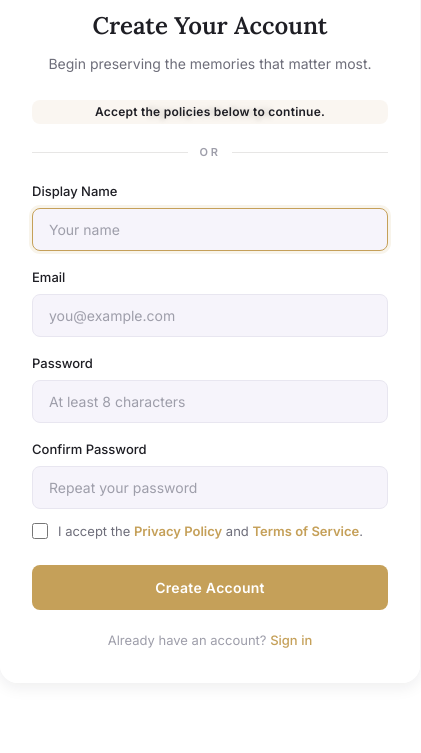
Test: RegisterPage › shows server error on registration failure
The width and height of the screenshot is (421, 753).
Type "John Doe" into the field labelled "Display Name". click: (210, 230)
box: left=32, top=208, right=388, bottom=251
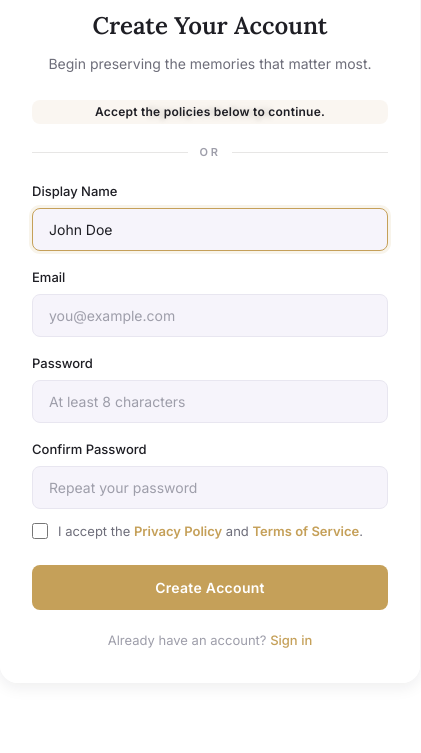
Type "john@gmail.com" into the field labelled "Email". click: (210, 316)
box: left=32, top=294, right=388, bottom=337
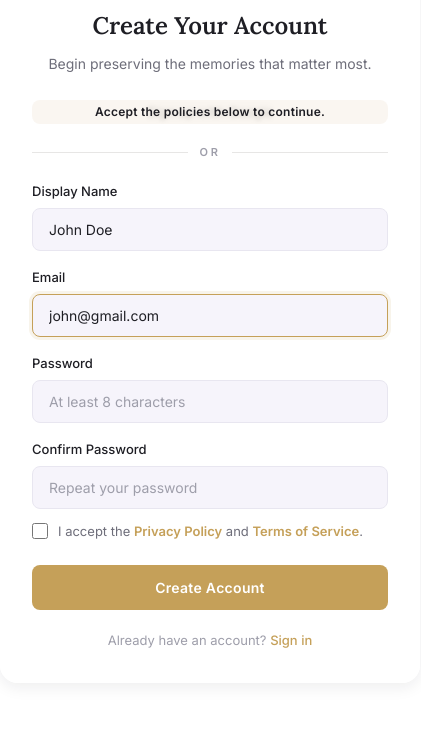
Type "Password123!" into the password field labelled "Password". click: (210, 401)
box: left=32, top=380, right=388, bottom=423
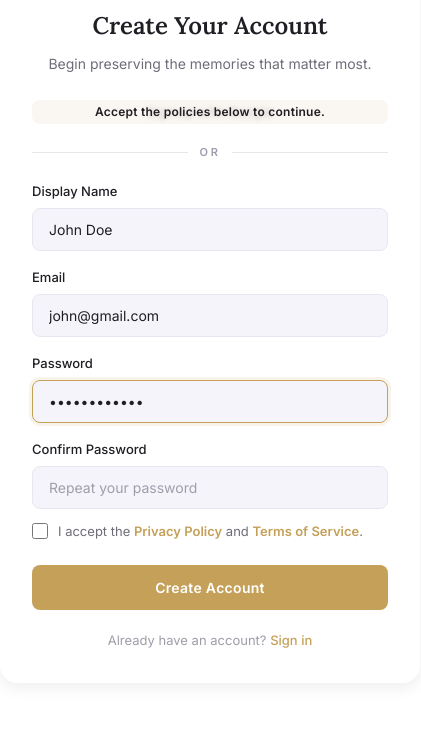
Type "Password123!" into the password field labelled "Confirm Password". click: (210, 487)
box: left=32, top=466, right=388, bottom=509
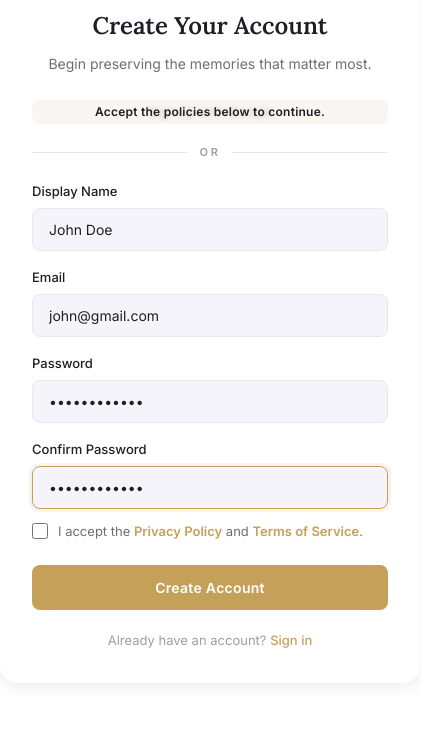
Click the checkbox labelled "I accept the Privacy Policy and Terms of Service .". click: click(40, 531)
box: left=32, top=523, right=48, bottom=539
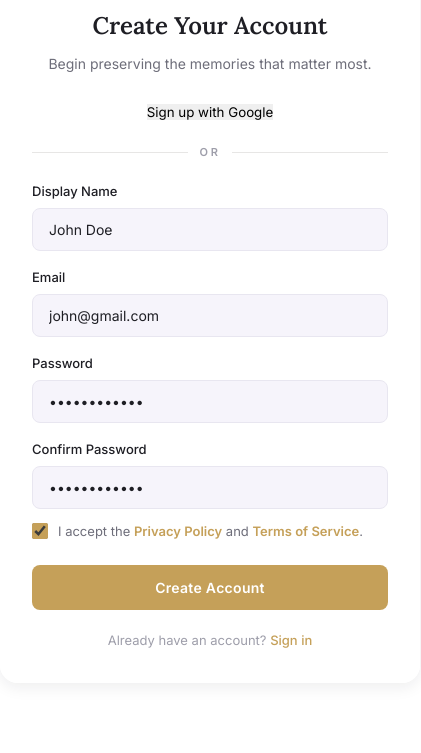
Click the button "Create Account". click: click(210, 588)
box: left=32, top=565, right=388, bottom=610
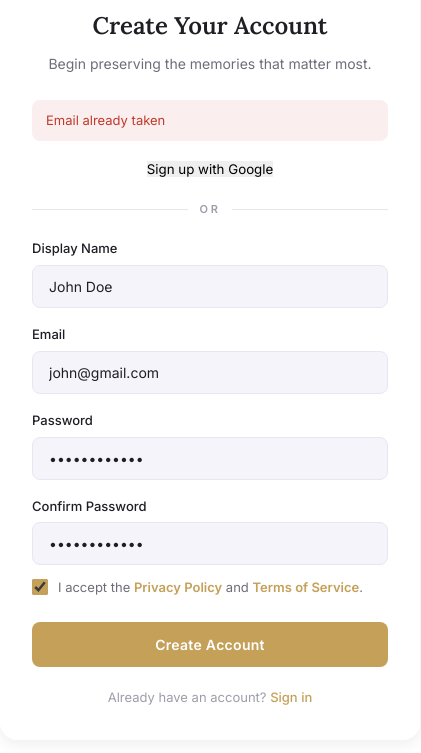
Expected: the text "Email already taken" is shown, left=32, top=100, right=388, bottom=141
